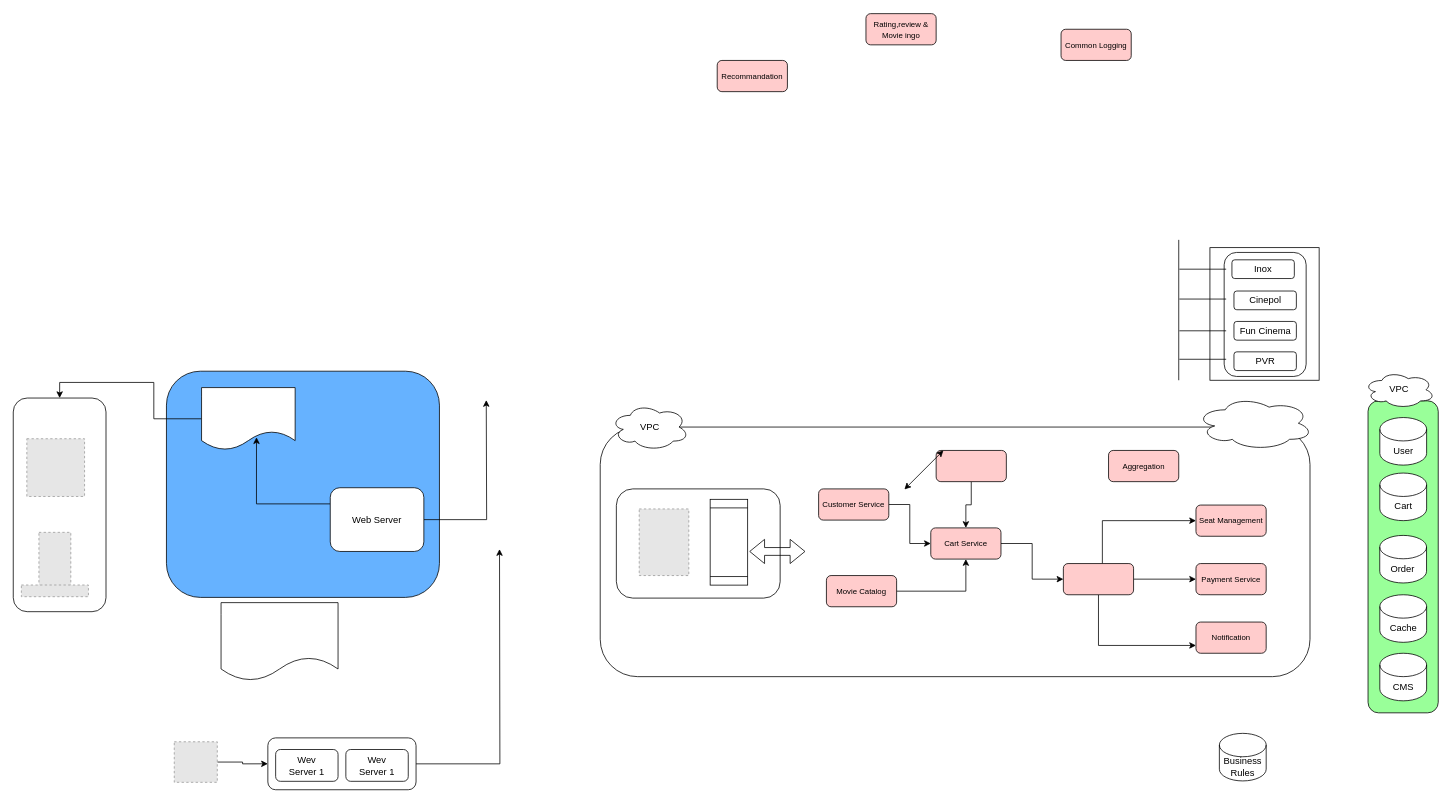
Image size: 1452x803. Some labels were removed from this diagram. Grey dashed boxes stand in for pictures. Each missing label, with the centre of its shape:
"C D N - Cloudfare" belongs at (248,418).
"Ingress" belongs at (728,542).
"K8s + Docker+ Micro Service" belongs at (1254,423).
"React + Bootstrap chatbot + Multilang+Multicurrency+ support iOS & android+" belongs at (279,641).
"Search Service" belongs at (970,466).
"Ticker Booking" belongs at (1098,579).
